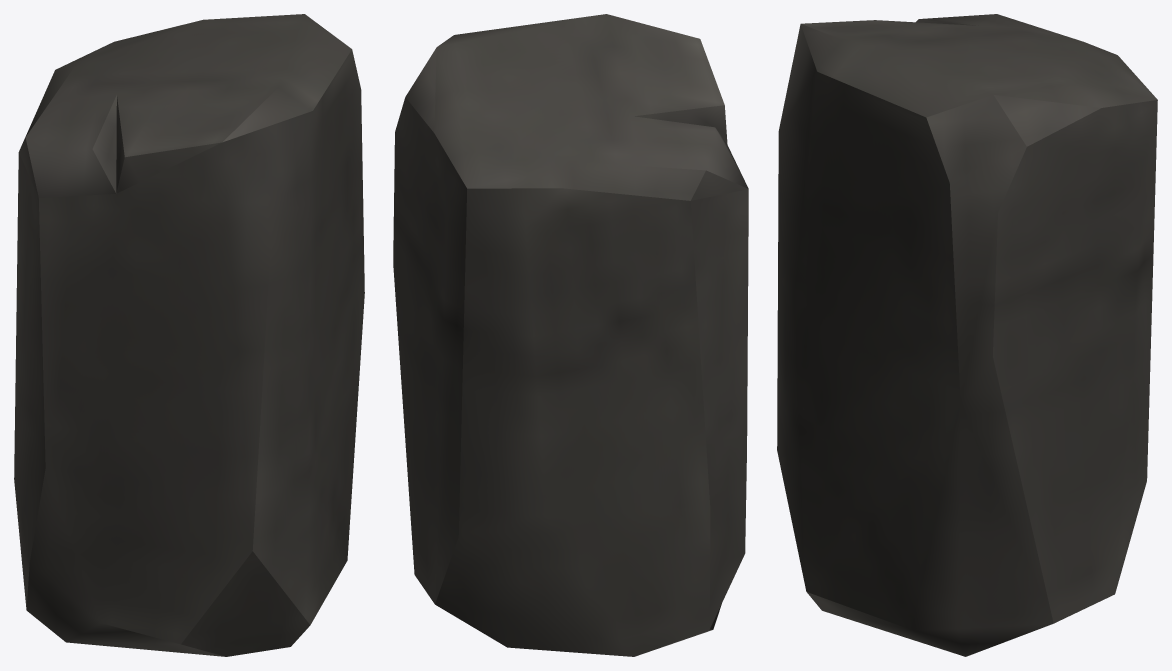
File: Block2.fbx
3 renders of one model, left to right at view 1: azimuth 30°, elevation 25°; view 2: azimuth 150°, elevation 25°; view 3: azimuth 270°, elevation 25°, orthographic. The views are drawn at different scales.
Visible parts, largest first — view 1: Block2; view 2: Block2; view 3: Block2.
Part boxes in pixels (x1,y1,x2,y2): Block2: (14, 14, 364, 656); Block2: (393, 14, 748, 656); Block2: (777, 14, 1157, 656).
Size of the model in its own units: 108 by 167 by 101.
1 material, 1 textured.
